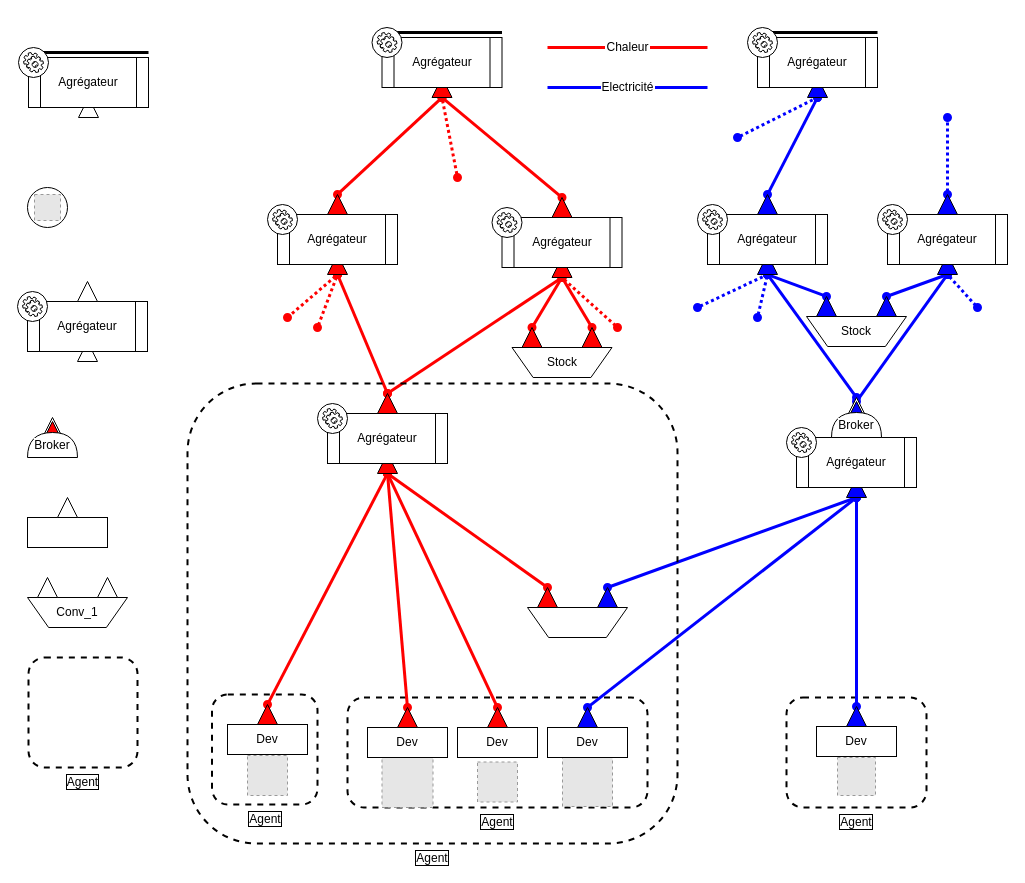
This 1025x883 diagram has some shape labels left out. Grey dashed boxes stand in for pictures. Here are the shapes that lost their labels. From the top down, the box of each, then its label:
(26, 516, 108, 548): Dev_2
(526, 606, 628, 638): Conv
